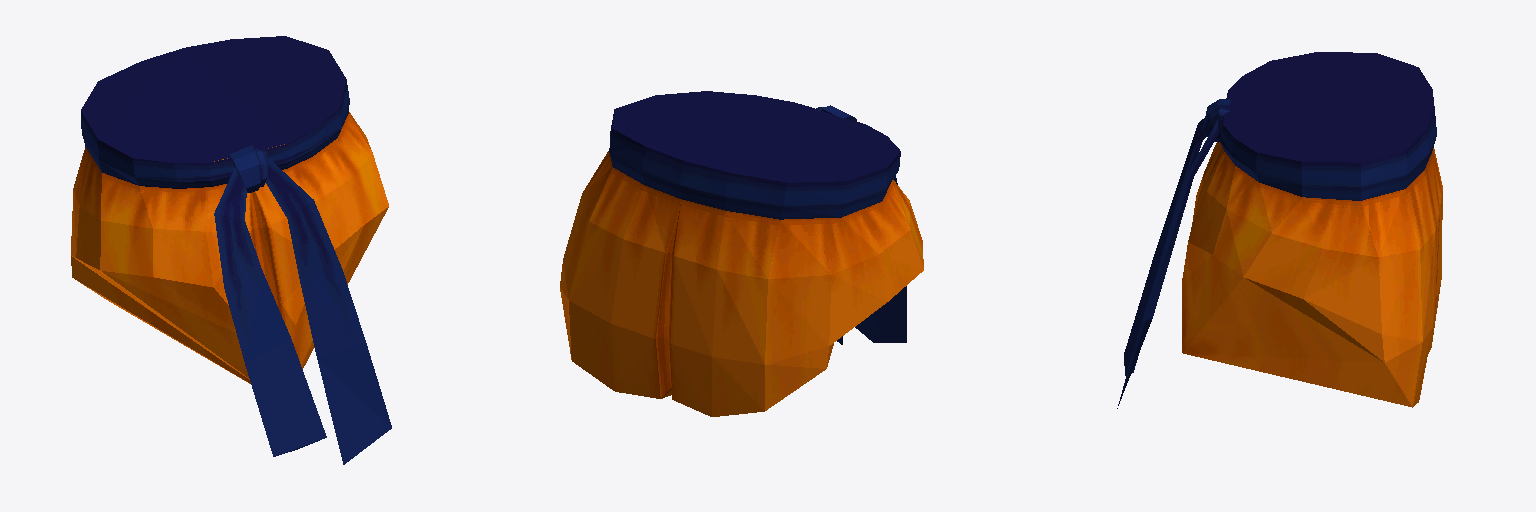
The picture shows the model from 3 angles: view 1: azimuth 30°, elevation 25°; view 2: azimuth 150°, elevation 25°; view 3: azimuth 270°, elevation 25°; orthographic projection.
Parts seen in each view (by area): view 1: Mesh.404_DrawCall_231; view 2: Mesh.404_DrawCall_231; view 3: Mesh.404_DrawCall_231.
Part boxes in pixels (x1,y1,x2,y2): Mesh.404_DrawCall_231: (71,36,391,464); Mesh.404_DrawCall_231: (560,91,923,416); Mesh.404_DrawCall_231: (1117,52,1442,408).
Size of the model in its own units: 8.26 by 7.66 by 7.48.
1 materials, 1 textured.